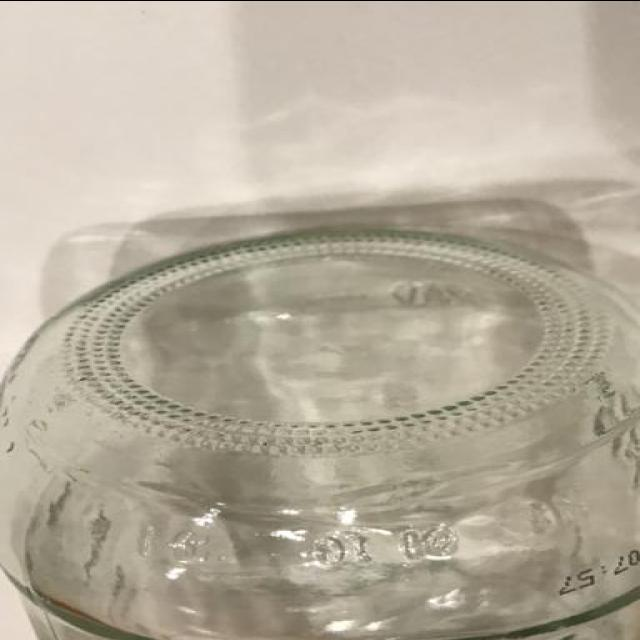Glass Bottle: (1, 230, 640, 640)
